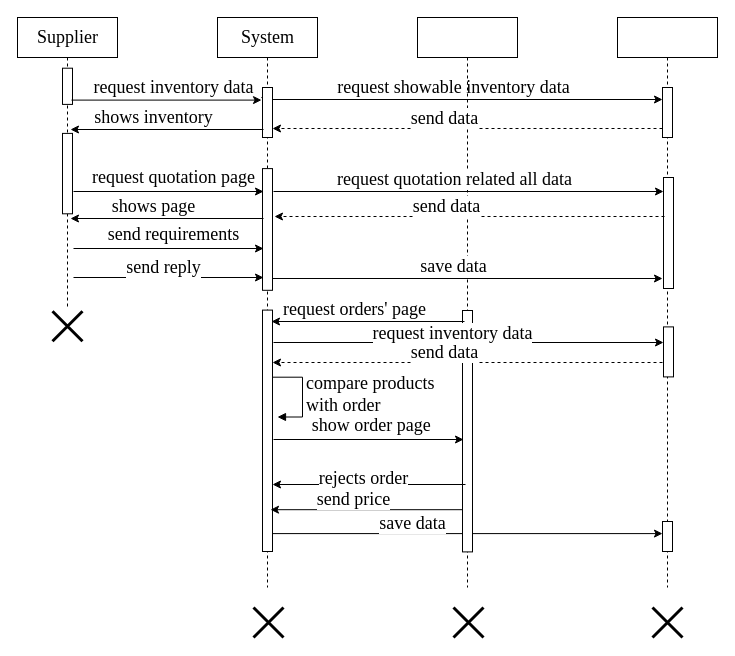
The diagram is 735 pixels wide and 656 high, and some of its shapes have lost their labels. The shapes that lost their labels are listed below. From the top down, each one's centre as x and y in pixels, then its label:
[467,302]: Admin
[667,302]: Database
